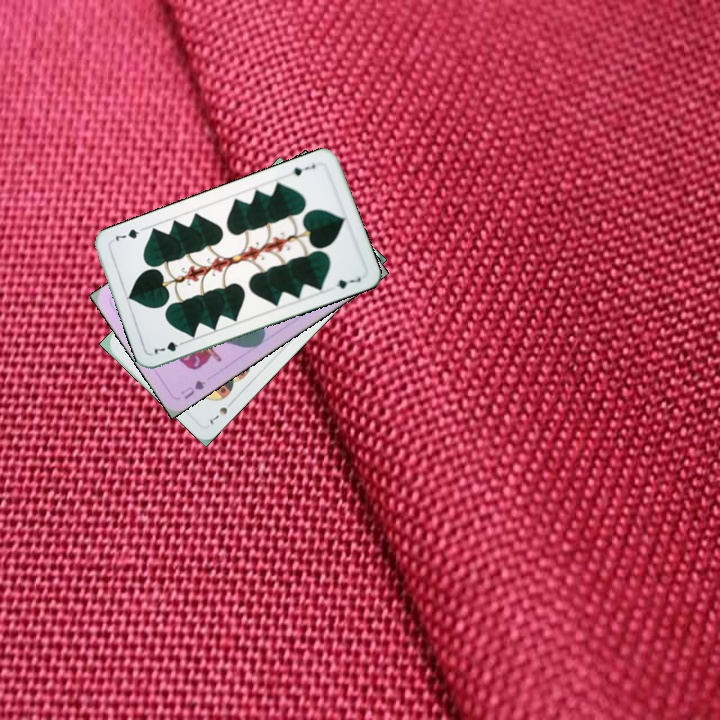G7: (150, 337, 189, 357), (288, 160, 318, 178)
GU: (177, 376, 208, 402)
S7: (206, 403, 230, 427)
